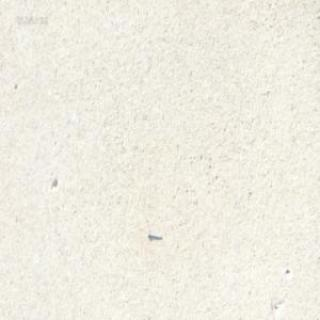Nailtrack_idkeyframe: (146, 229, 161, 238)
